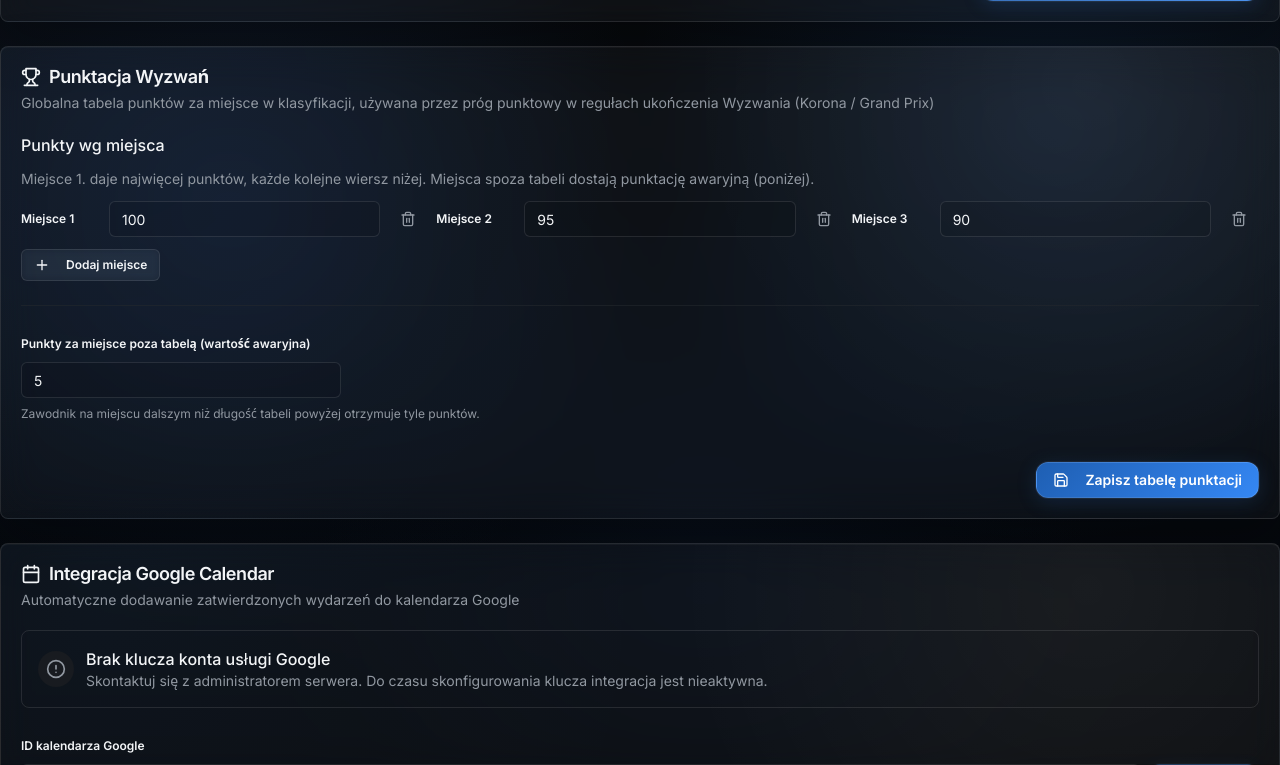
Test: AdminSettingsTab — Challenge points settings › negative input is clamped to zero rather than sent as-is
This screenshot has width=1280, height=765.
(page scrolled)
Replace the text in the number field labelled "Punkty za miejsce poza tabelą (wartość awaryjna)" with "-5". click: (181, 380)
box: [21,362,341,398]
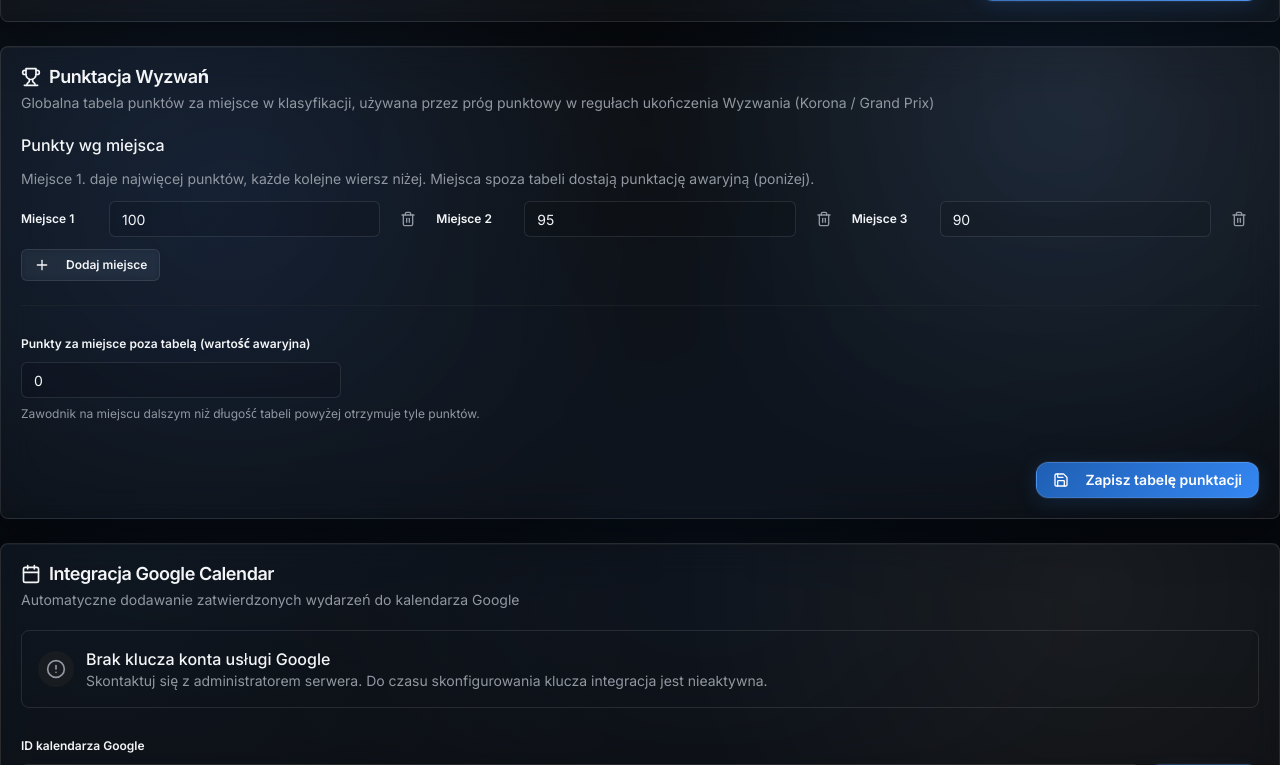
Check: the number field labelled "Punkty za miejsce poza tabelą (wartość awaryjna)" holds "0", box [21,362,341,398]
